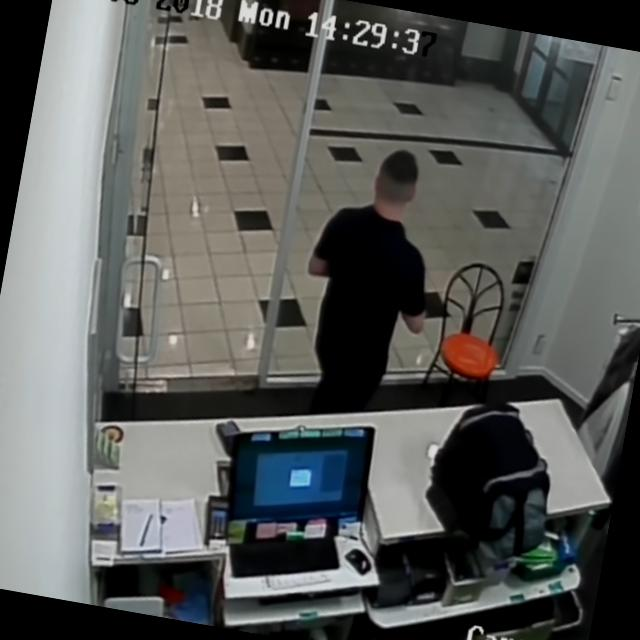person: (282, 136, 454, 433)
